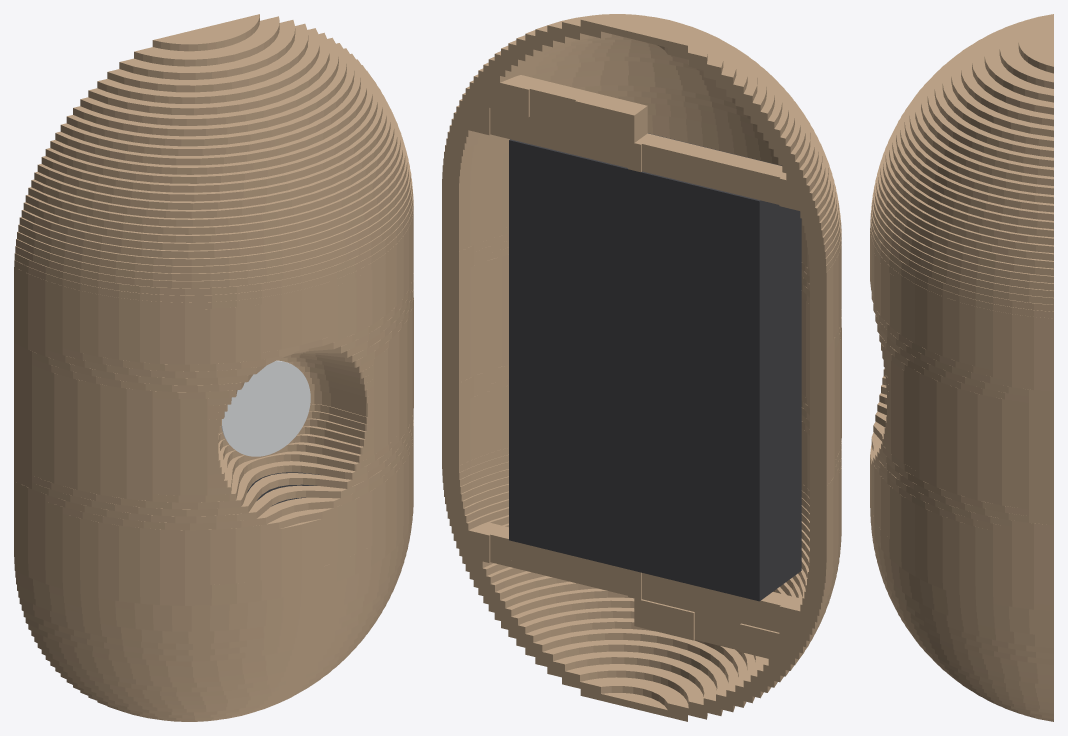
Rendered from bar.glb.
3 renders of one model, left to right at view 1: azimuth 30°, elevation 25°; view 2: azimuth 150°, elevation 25°; view 3: azimuth 270°, elevation 25°, orthographic. The views are drawn at different scales.
Visible parts, largest first — view 1: door_R, door_L, mirror_L, mirror_R; view 2: stand, door_L, door_R; view 3: door_L, door_R.
Boxes of the visible parts, <box> form: door_R: <box>14,27,301,721</box>; door_L: <box>207,14,413,715</box>; mirror_L: <box>266,360,310,455</box>; mirror_R: <box>221,366,266,456</box>; stand: <box>509,133,801,601</box>; door_L: <box>442,14,718,708</box>; door_R: <box>634,19,841,721</box>; door_L: <box>870,41,1053,721</box>; door_R: <box>870,14,1053,454</box>.
Bounding box in the file's own units: 1.17 × 1.96 × 0.5.
